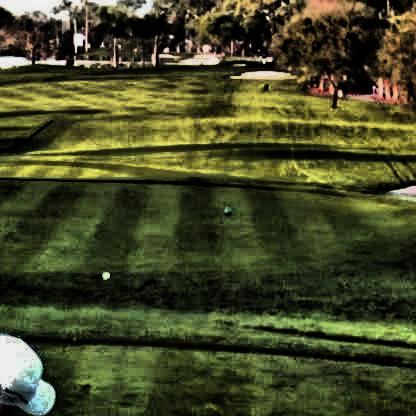golfball: (98, 269, 106, 279)
